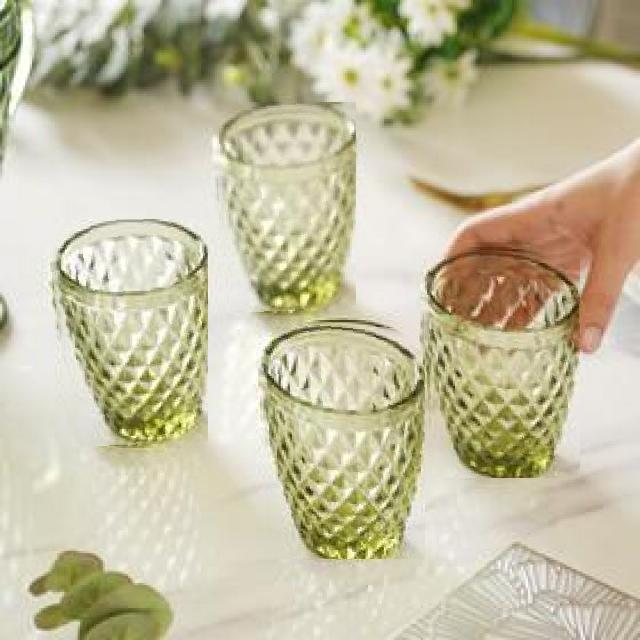Glass: (258, 316, 426, 559), (420, 246, 580, 478), (48, 220, 208, 448), (213, 102, 356, 314)
